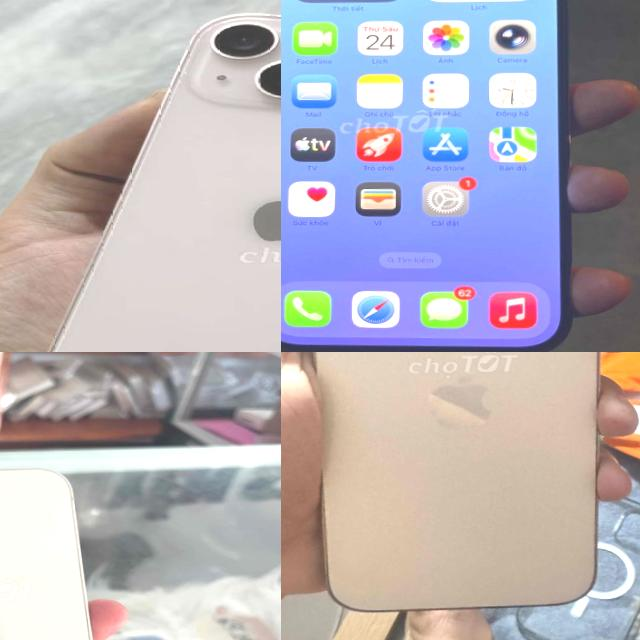gen_12_13: (16, 0, 281, 352), (0, 461, 117, 640)
gen_14: (281, 0, 580, 352), (291, 352, 611, 607)
